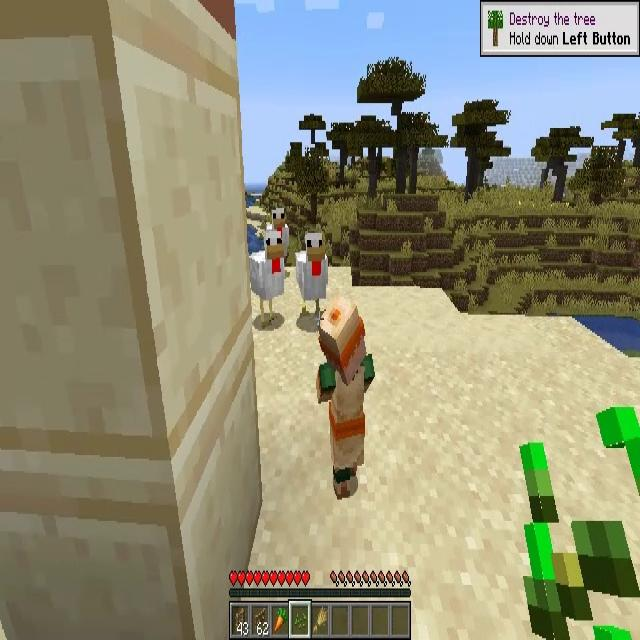duck: (250, 231, 287, 320), (296, 234, 328, 318), (262, 209, 288, 246)
people: (316, 294, 377, 497)
